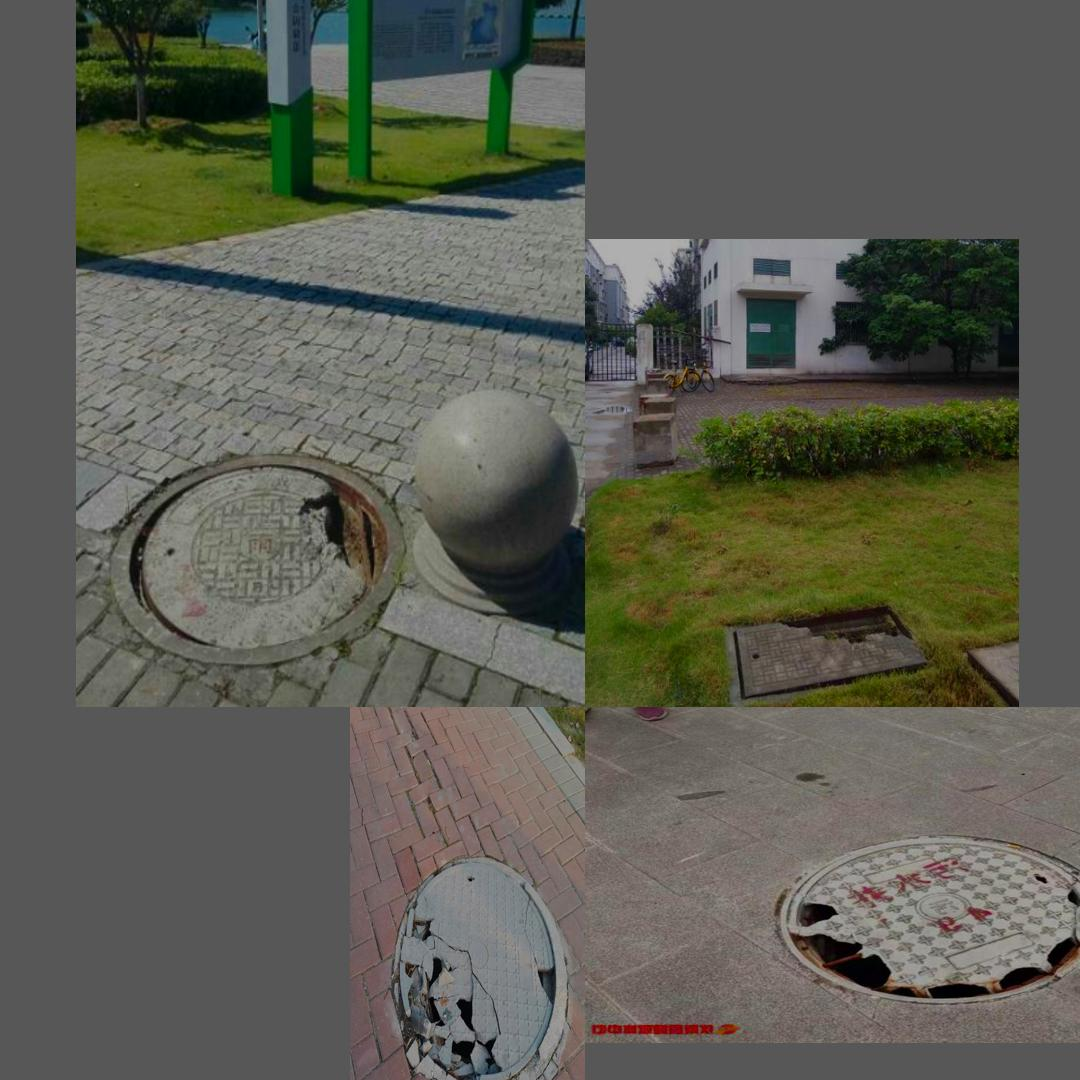broke: (111, 449, 407, 667), (758, 825, 1080, 1011), (379, 839, 577, 1080), (723, 604, 929, 707)
